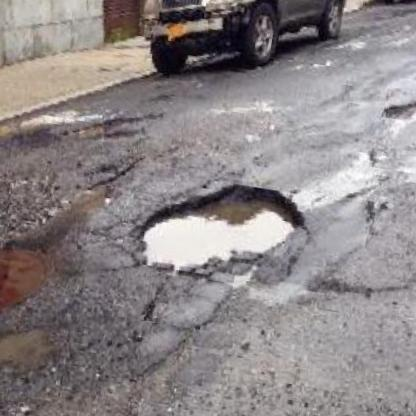pothole: (134, 165, 313, 296), (59, 95, 159, 152), (0, 306, 65, 387), (379, 89, 416, 134)
